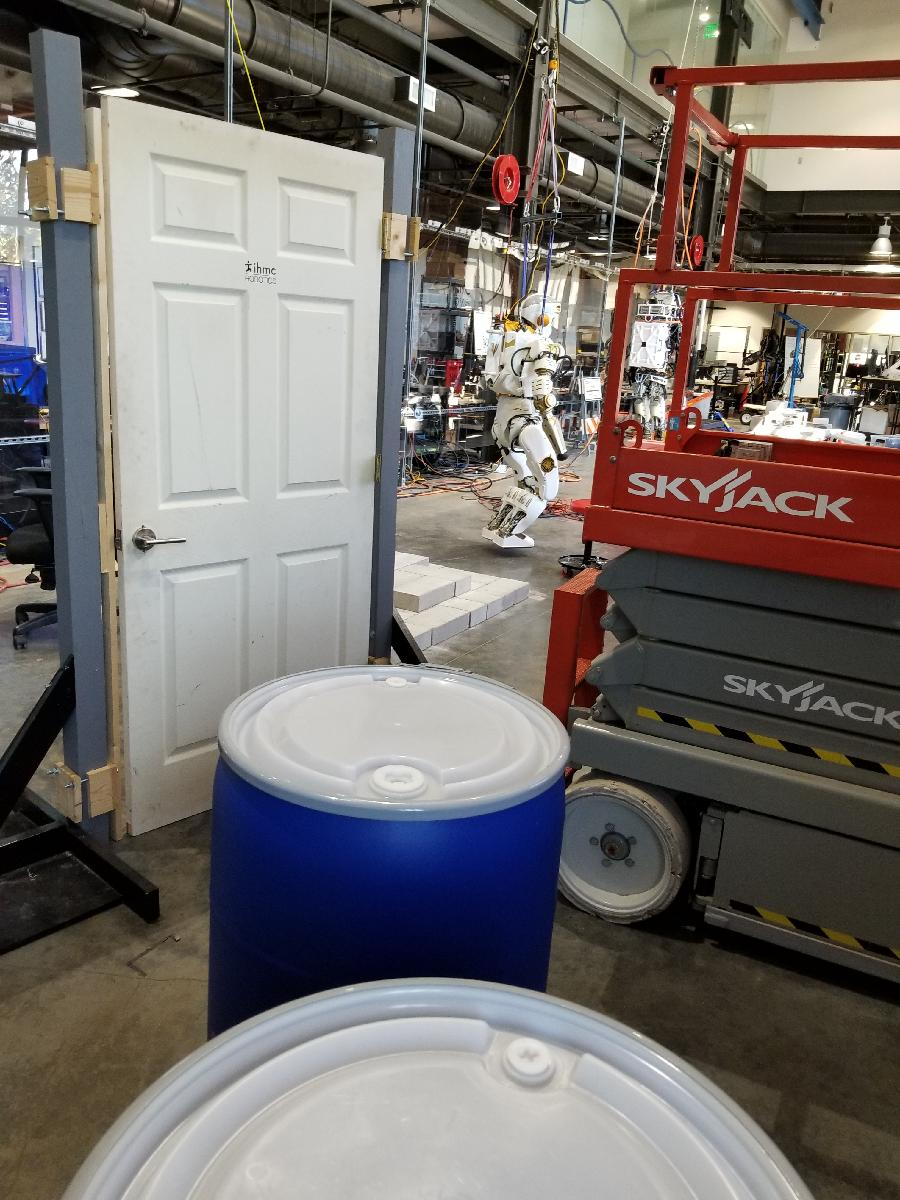door: (95, 89, 389, 845)
doorHandle: (124, 524, 195, 558)
